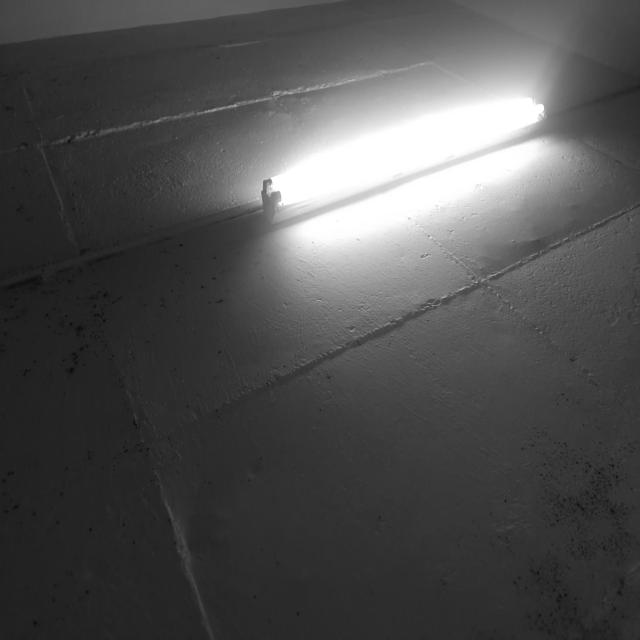light: (262, 92, 546, 227)
